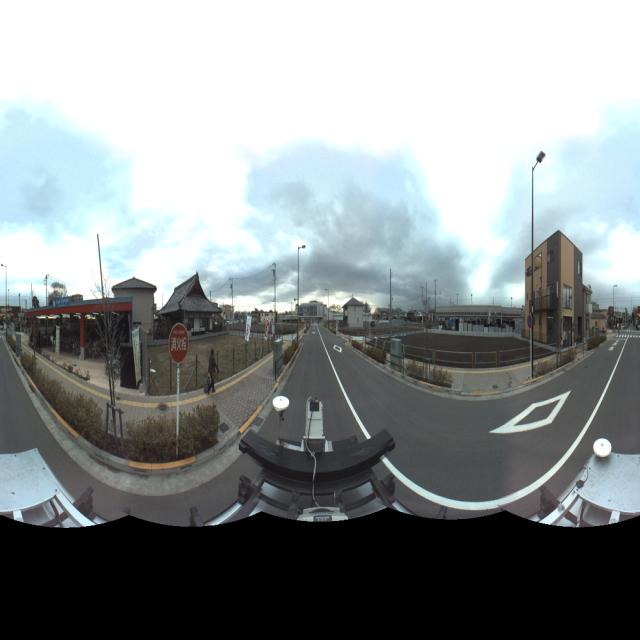b_1: (524, 227, 581, 353), (158, 268, 220, 344), (116, 266, 157, 346), (291, 289, 336, 339), (340, 290, 371, 342), (582, 277, 596, 348)
